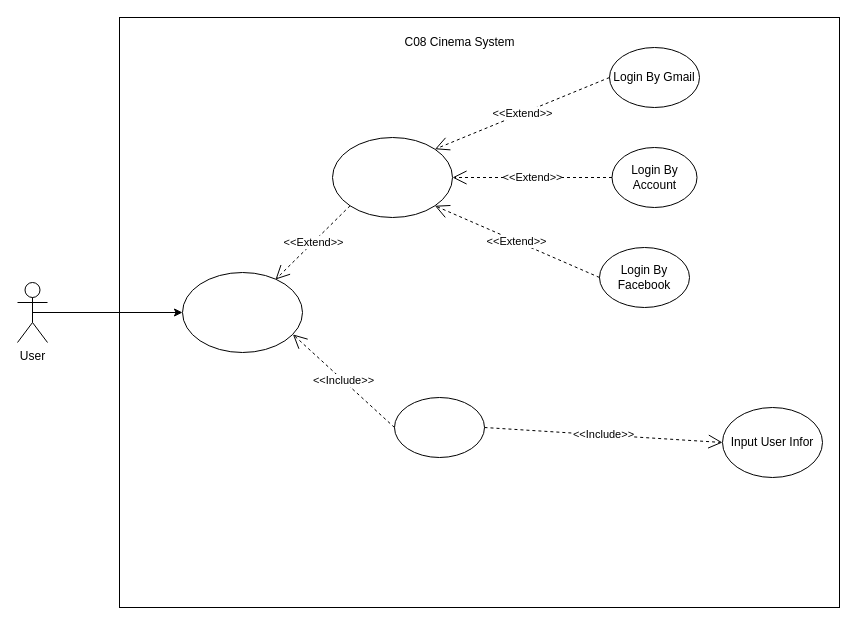
Some shapes in this 857 by 633 pixel diagram are drawn without their labels. The shapes that lost their labels are listed below. From the top down, each one's centre as x and y in pixels, then its label:
At pixel 392 177: "Login".
At pixel 242 312: "Register".
At pixel 439 427: "Resgister By Account".
